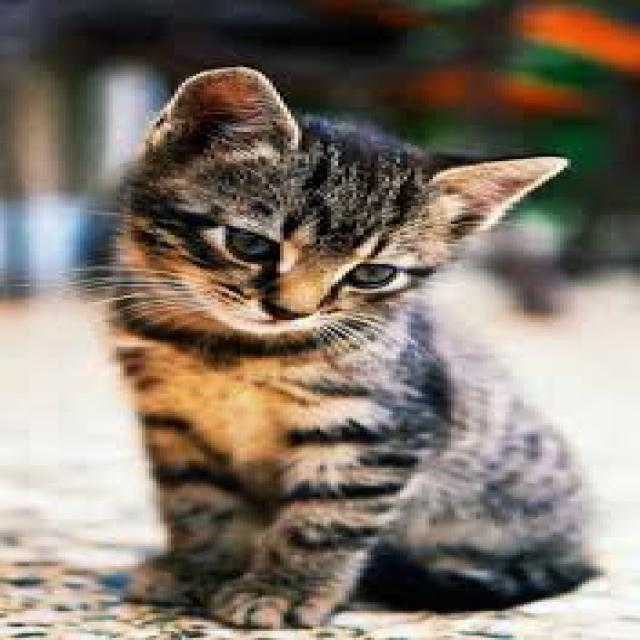Cat: (63, 61, 616, 634)
